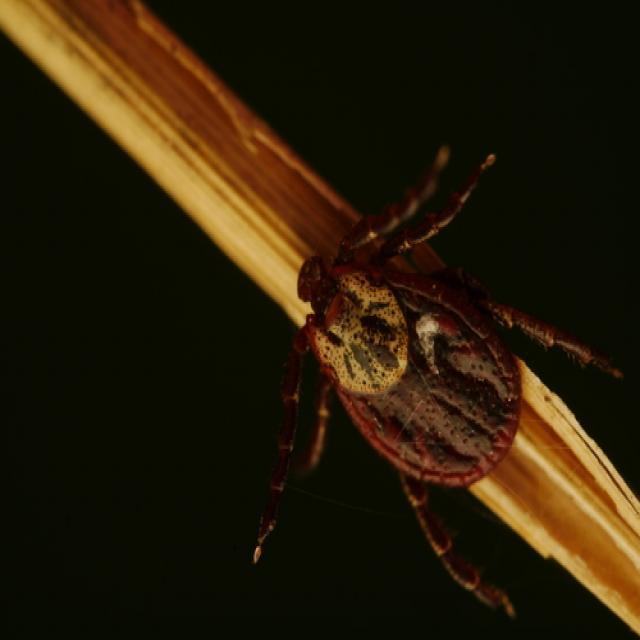Dermacentor Reticulatus-F: (253, 142, 625, 618)
